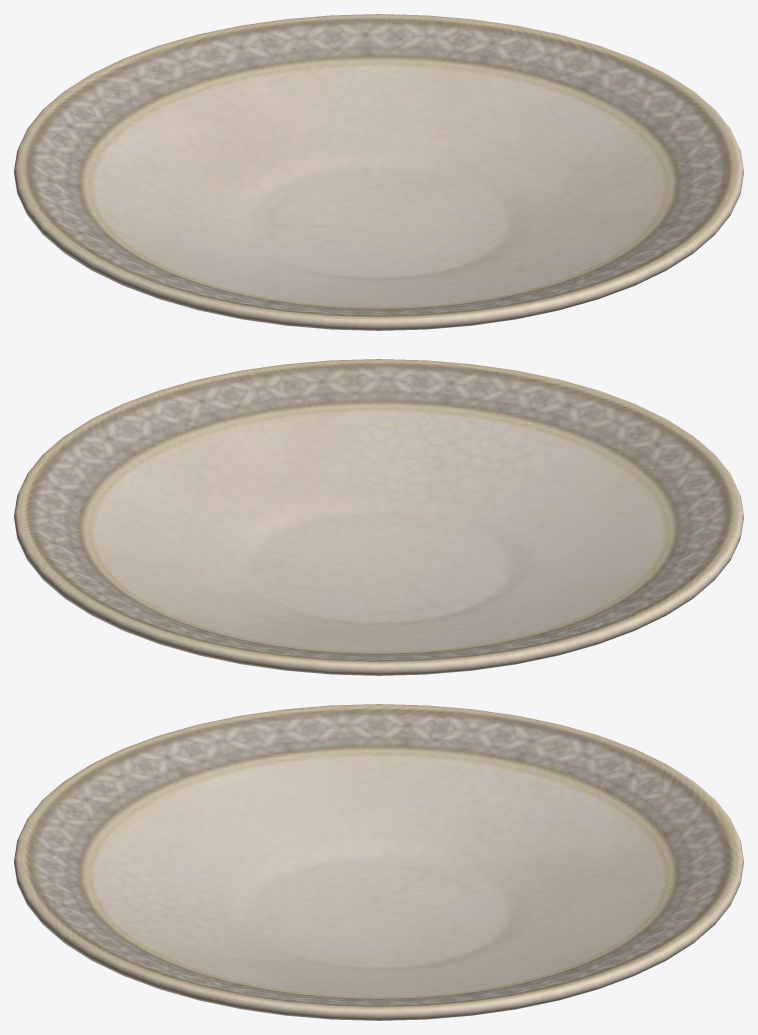
The model's file is ph-thrift-saucer.glb.
3 views of the same model, one above another, from view 1: azimuth 30°, elevation 25°; view 2: azimuth 150°, elevation 25°; view 3: azimuth 270°, elevation 25° (orthographic).
Parts seen in each view (by area): view 1: tea_set_01_saucer_circular_03; view 2: tea_set_01_saucer_circular_03; view 3: tea_set_01_saucer_circular_03.
Boxes of the visible parts, <box> form: tea_set_01_saucer_circular_03: <box>14,14,743,330</box>; tea_set_01_saucer_circular_03: <box>14,359,743,675</box>; tea_set_01_saucer_circular_03: <box>14,704,743,1020</box>.
Bounding box in the file's own units: 0.234 × 0.025 × 0.234.
1 material, 1 textured.
